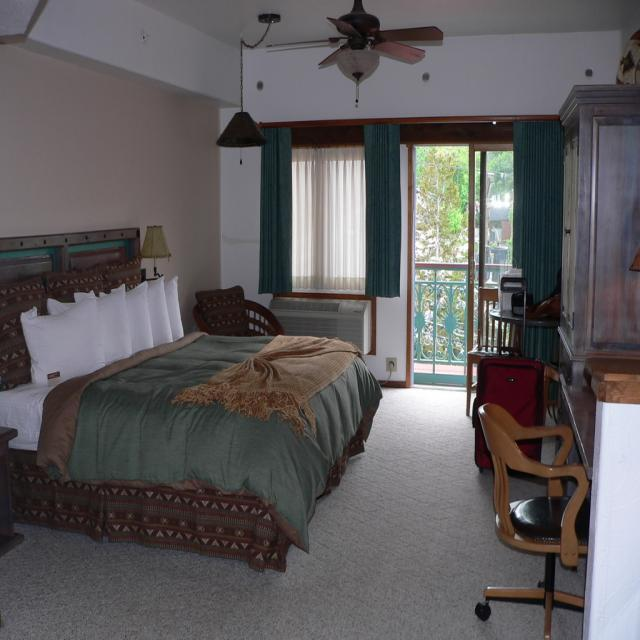fan_off: (260, 4, 450, 72)
